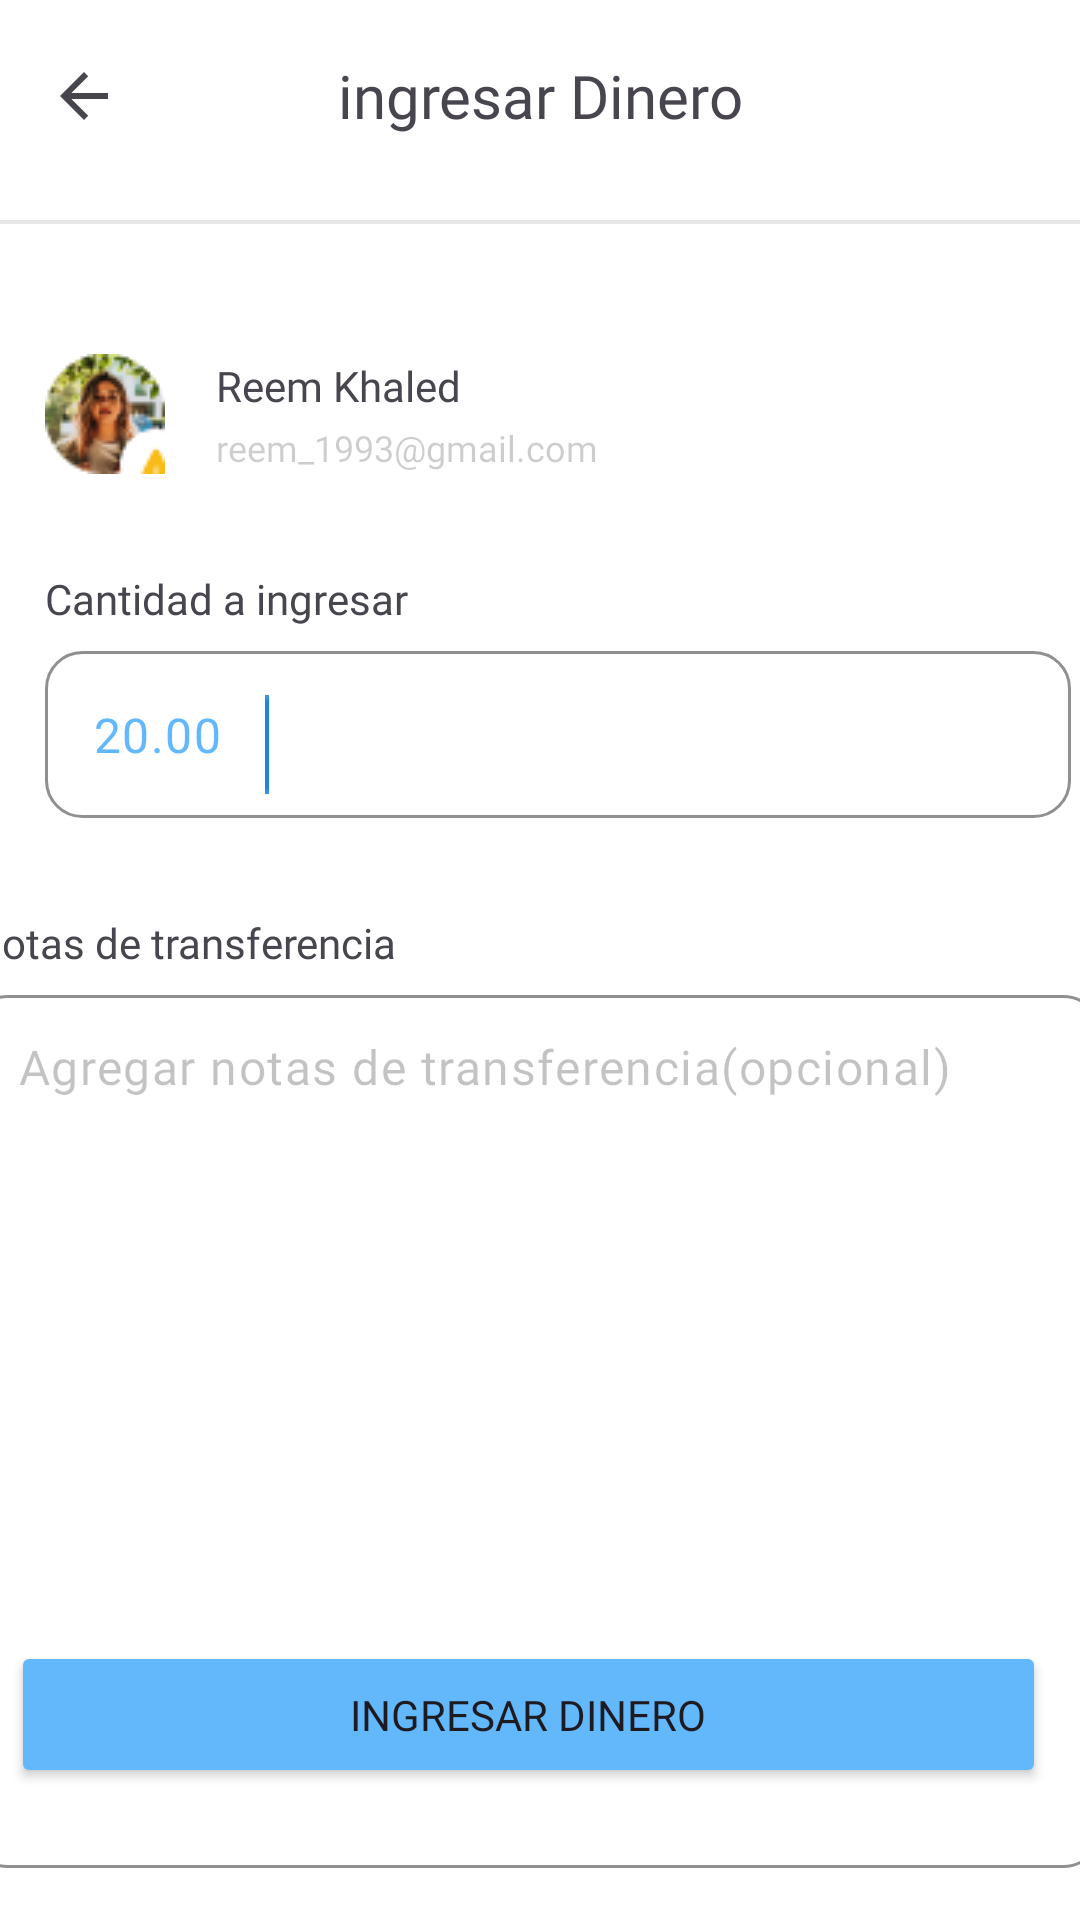

Icons on this 1080px×1920px Android screen, each with the point to tap as point (x, y):
profile: point (105, 414)
